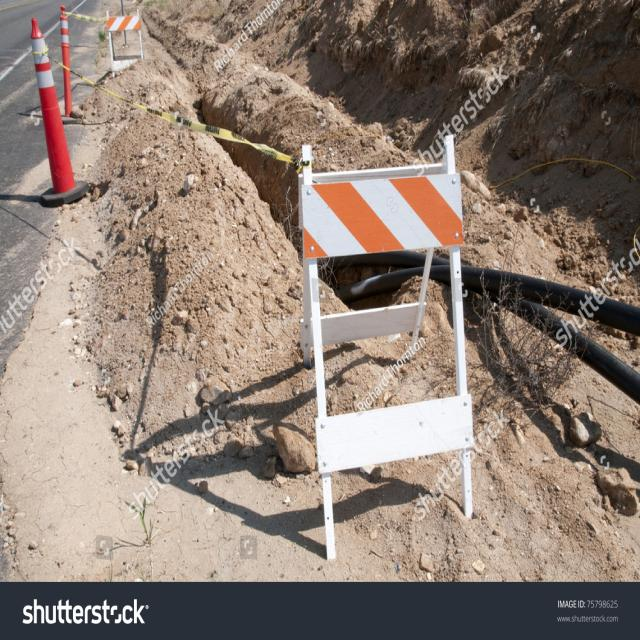cone: (296, 134, 476, 559)
